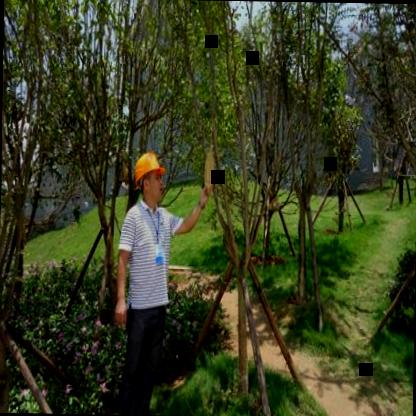helmet: (132, 147, 168, 207)
